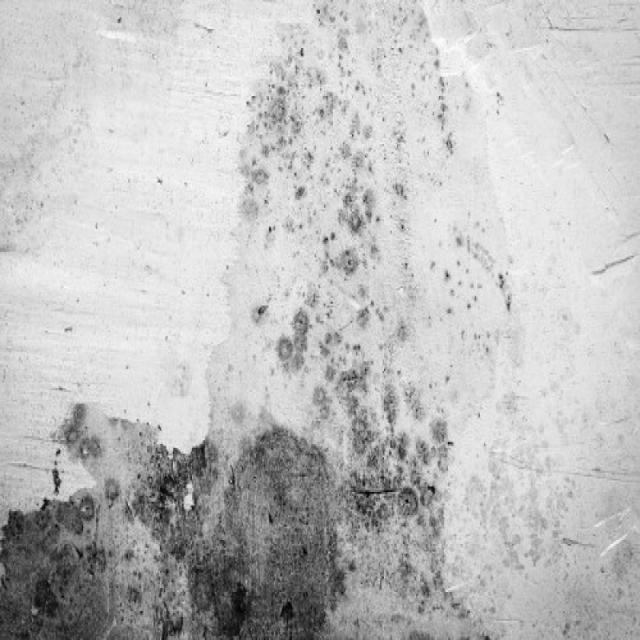stain marks: (0, 0, 512, 640)
